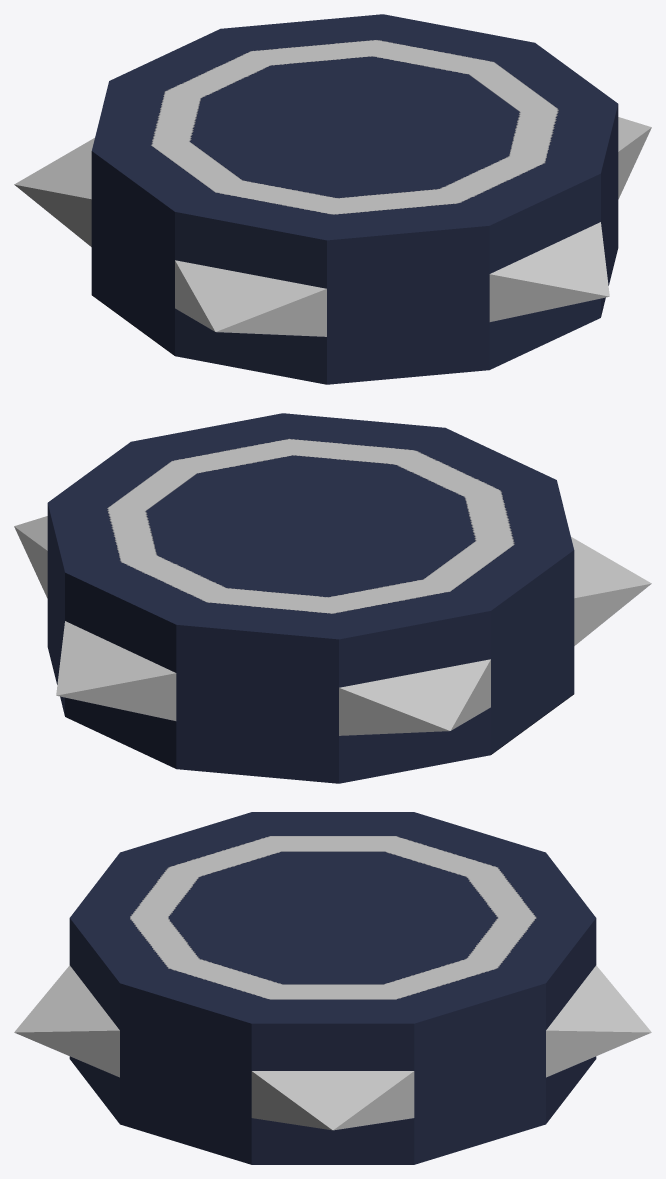
Rendered from puck_spiked_final.fbx.
The picture shows the model from 3 angles, top to bottom: view 1: azimuth 30°, elevation 25°; view 2: azimuth 150°, elevation 25°; view 3: azimuth 270°, elevation 25°; orthographic projection. The views are drawn at different scales.
Visible parts, largest first — view 1: Spiked Puck; view 2: Spiked Puck; view 3: Spiked Puck.
Part boxes in pixels (x1,y1,x2,y2): Spiked Puck: [14, 14, 651, 384]; Spiked Puck: [14, 413, 651, 783]; Spiked Puck: [14, 812, 651, 1164].
Size of the model in its own units: 2.08 by 2.19 by 0.5347.
Materials: 1 (1 with a texture image).
